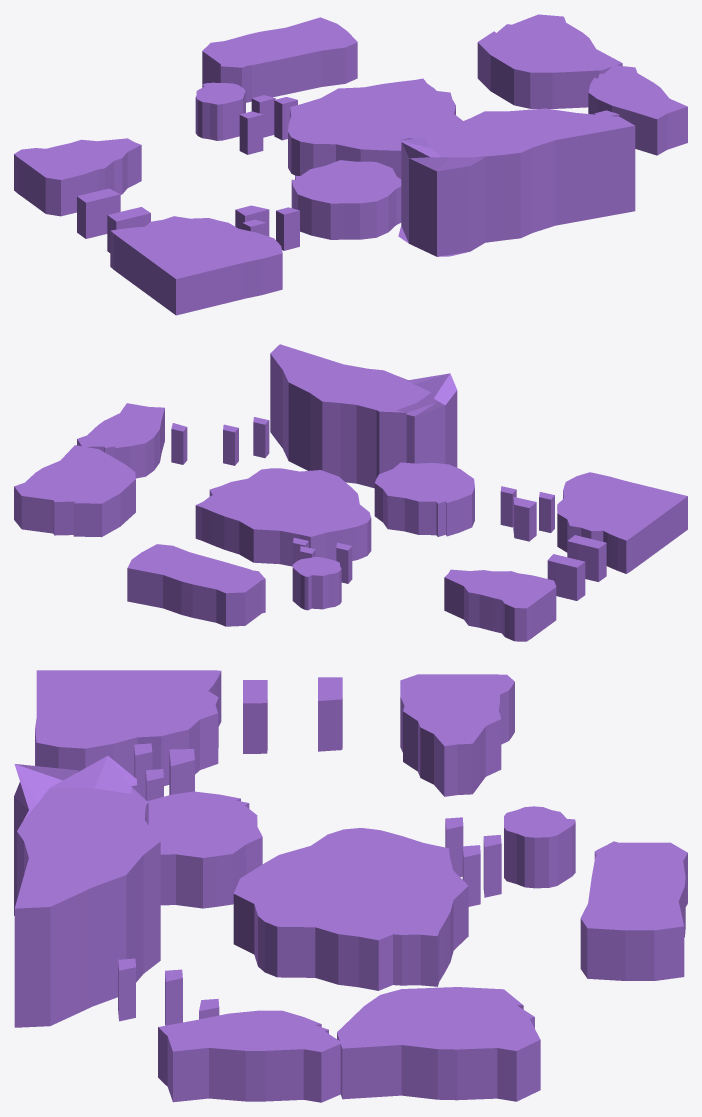
The model's file is blocagem.fbx.
The picture shows the model from 3 angles, top to bottom: view 1: azimuth 30°, elevation 25°; view 2: azimuth 150°, elevation 25°; view 3: azimuth 270°, elevation 25°; orthographic projection. The views are drawn at different scales.
Parts seen in each view (by area): view 1: Plane.003, Plane.010, Plane.006, Plane.005, Plane.007, Plane.011, Plane.009, Plane.004, Plane.008, Plane.012, Plane.021, Plane.016 (+4 smaller); view 2: Plane.003, Plane.006, Plane.010, Plane.005, Plane.007, Plane.011, Plane.009, Plane.004, Plane.008, Plane.012, Plane.013, Plane.014 (+6 smaller); view 3: Plane.003, Plane.006, Plane.005, Plane.010, Plane.004, Plane.007, Plane.009, Plane.011, Plane.008, Plane.012, Plane.013, Plane.014 (+6 smaller).
Boxes of the visible parts, x1,y1,x2,y2 form: Plane.003: [398, 108, 635, 256]; Plane.010: [110, 216, 282, 315]; Plane.006: [288, 78, 462, 178]; Plane.005: [477, 14, 622, 108]; Plane.007: [202, 17, 357, 102]; Plane.011: [291, 160, 401, 239]; Plane.009: [14, 138, 141, 216]; Plane.004: [588, 65, 687, 155]; Plane.008: [195, 82, 245, 140]; Plane.012: [77, 188, 120, 238]; Plane.021: [239, 111, 263, 154]; Plane.016: [276, 207, 299, 250]; Plane.003: [270, 344, 457, 488]; Plane.006: [195, 468, 371, 566]; Plane.010: [557, 472, 687, 573]; Plane.005: [14, 445, 135, 537]; Plane.007: [127, 544, 265, 626]; Plane.011: [374, 462, 474, 536]; Plane.009: [444, 569, 556, 641]; Plane.004: [77, 403, 164, 478]; Plane.008: [292, 556, 341, 610]; Plane.012: [547, 554, 585, 600]; Plane.013: [567, 535, 606, 581]; Plane.014: [513, 497, 536, 541]; Plane.003: [14, 755, 160, 1027]; Plane.006: [233, 828, 468, 990]; Plane.005: [337, 987, 540, 1101]; Plane.010: [35, 670, 221, 785]; Plane.004: [158, 1010, 340, 1102]; Plane.007: [580, 841, 687, 980]; Plane.009: [400, 674, 514, 796]; Plane.011: [147, 791, 262, 908]; Plane.008: [504, 806, 575, 888]; Plane.012: [318, 677, 342, 751]; Plane.013: [243, 680, 267, 753]; Plane.014: [169, 749, 194, 794].
Size of the model in its own units: 18462 by 3110 by 13769.
